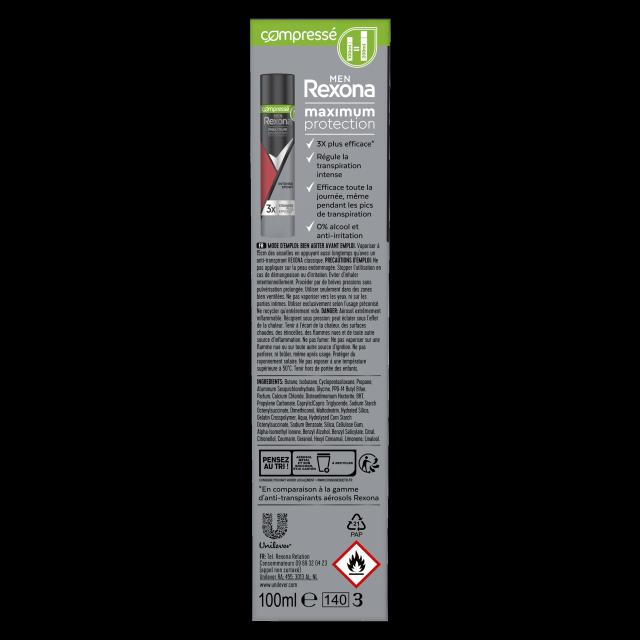GHS_Symbol_FLAME: (334, 541, 381, 588)
